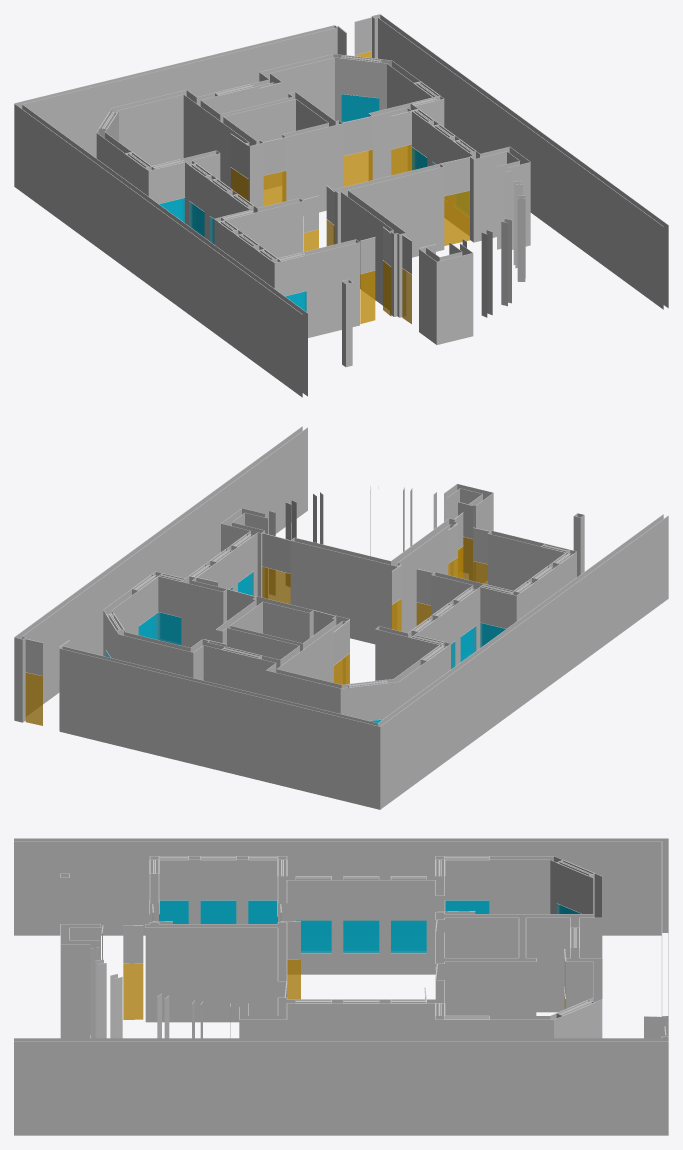
Rendered from 17aa24f0-5d30-485f-bde0-8394e7946a7c.glb.
The picture shows the model from 3 angles, top to bottom: view 1: azimuth 30°, elevation 25°; view 2: azimuth 150°, elevation 25°; view 3: azimuth 270°, elevation 25°; orthographic projection. The views are drawn at different scales.
Parts seen in each view (by area): view 1: walls, doors, roof, windows; view 2: walls, roof, doors, windows; view 3: walls, windows, roof, doors.
Part boxes in pixels (x1,y1,x2,y2): walls: (14, 14, 668, 397); doors: (231, 51, 469, 323); roof: (14, 14, 668, 314); windows: (159, 94, 468, 311); walls: (14, 427, 668, 809); roof: (14, 426, 668, 726); doors: (25, 537, 487, 729); windows: (106, 572, 505, 722); walls: (14, 838, 668, 1135); windows: (159, 900, 580, 952); roof: (14, 838, 668, 1041); doors: (123, 959, 565, 1019).
Bounding box in the file's own units: 16.12 × 3.5 × 22.
